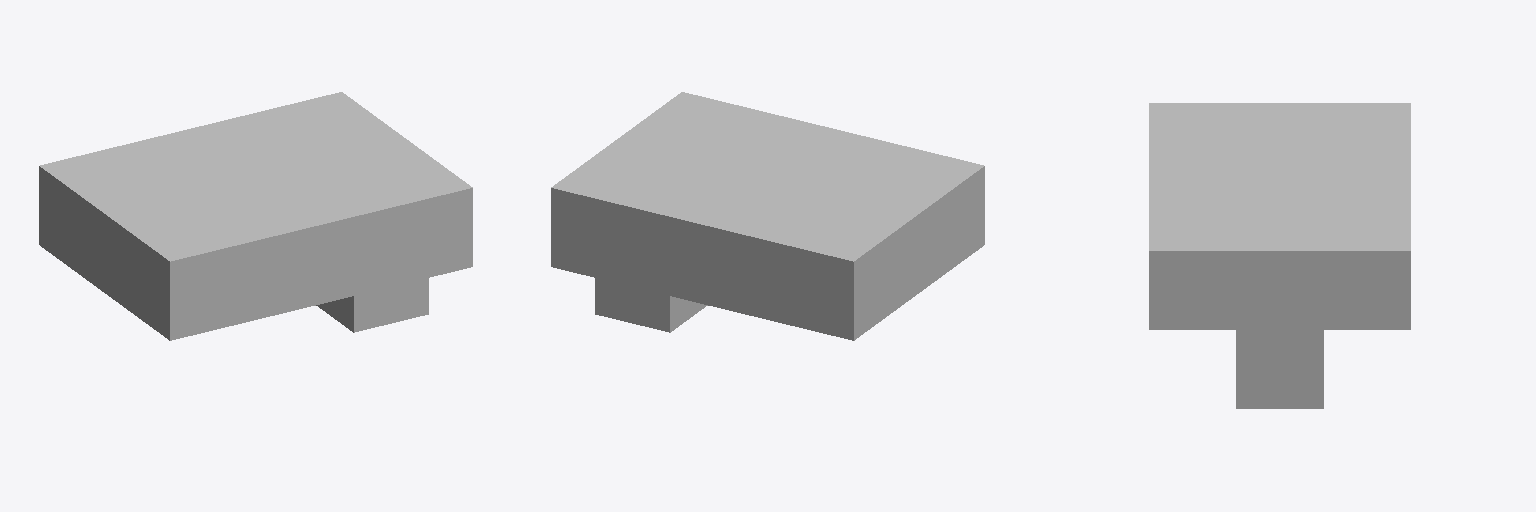
File: prefabRoad3.obj
The picture shows the model from 3 angles: view 1: azimuth 30°, elevation 25°; view 2: azimuth 150°, elevation 25°; view 3: azimuth 270°, elevation 25°; orthographic projection.
Visible parts, largest first — view 1: Cube; view 2: Cube; view 3: Cube.
Part boxes in pixels (bbox=[...]): Cube: bbox=[39, 92, 472, 340]; Cube: bbox=[551, 92, 984, 340]; Cube: bbox=[1149, 103, 1410, 408].
Size of the model in its own units: 8 by 4 by 6.